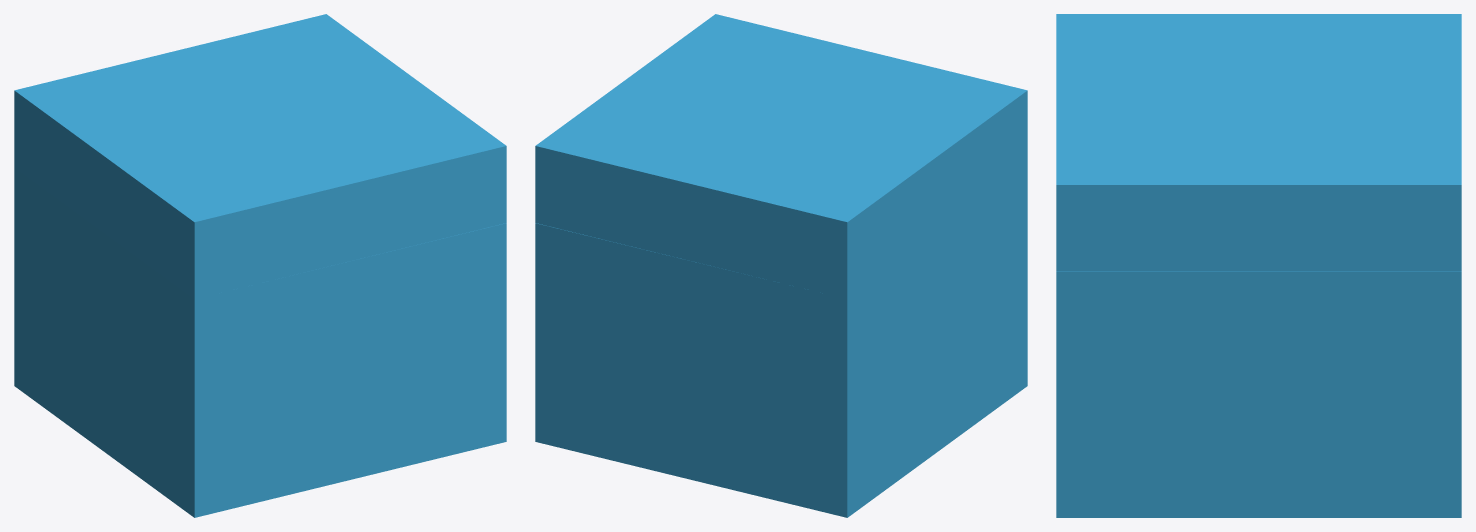
The model's file is LightsOut_TestCube.fbx.
The picture shows the model from 3 angles, left to right: view 1: azimuth 30°, elevation 25°; view 2: azimuth 150°, elevation 25°; view 3: azimuth 270°, elevation 25°; orthographic projection. The views are drawn at different scales.
Visible parts, largest first — view 1: chest, cab; view 2: chest, cab; view 3: cab, chest.
Boxes of the visible parts, x1,y1,x2,y2 form: chest: [14, 167, 506, 517]; cab: [14, 14, 506, 299]; chest: [535, 167, 1027, 517]; cab: [535, 14, 1027, 299]; cab: [1056, 14, 1461, 271]; chest: [1056, 271, 1461, 517].
Size of the model in its own units: 200 by 181 by 200.
